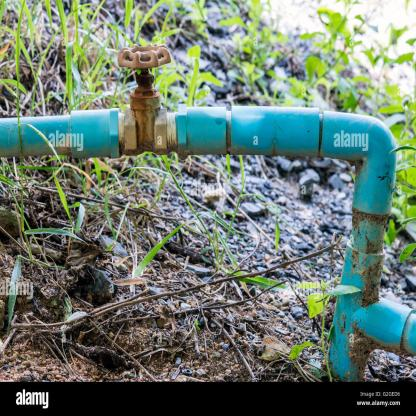PVC: (179, 106, 415, 383), (0, 109, 119, 160)
